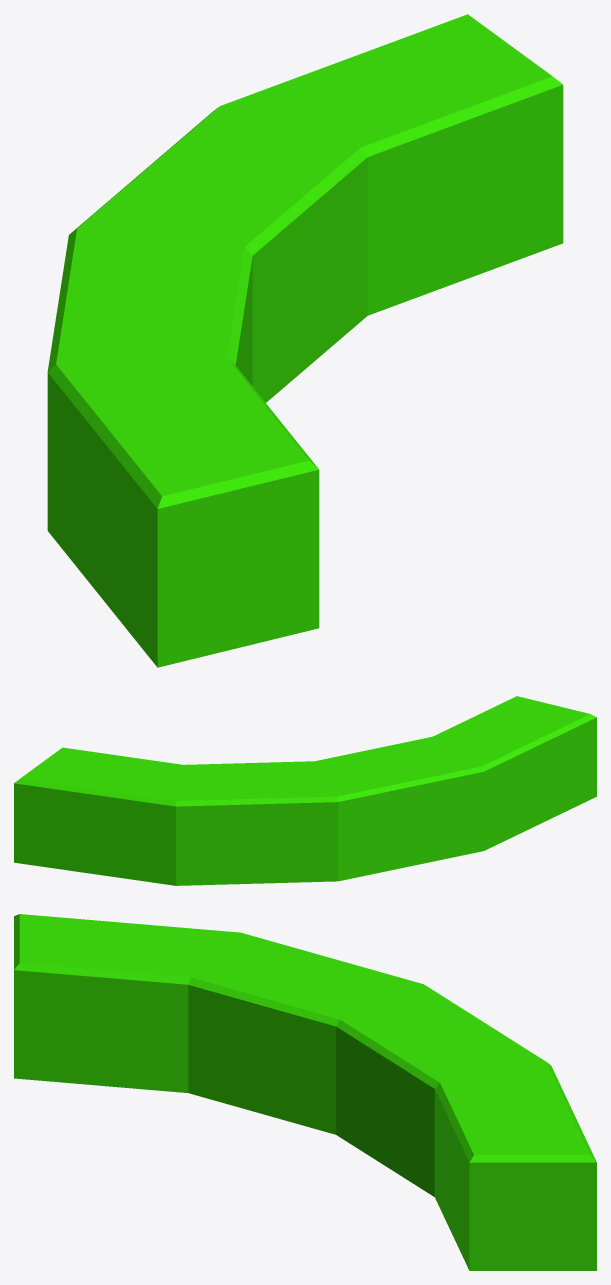
Rendered from round_5x1_01.fbx.
The picture shows the model from 3 angles, top to bottom: view 1: azimuth 30°, elevation 25°; view 2: azimuth 150°, elevation 25°; view 3: azimuth 270°, elevation 25°; orthographic projection. The views are drawn at different scales.
Visible parts, largest first — view 1: round_5x1_01; view 2: round_5x1_01; view 3: round_5x1_01.
Part boxes in pixels (x1,y1,x2,y2): round_5x1_01: (47,14,563,667); round_5x1_01: (14,696,596,885); round_5x1_01: (14,914,596,1270).
Size of the model in its own units: 512 by 110 by 512.
